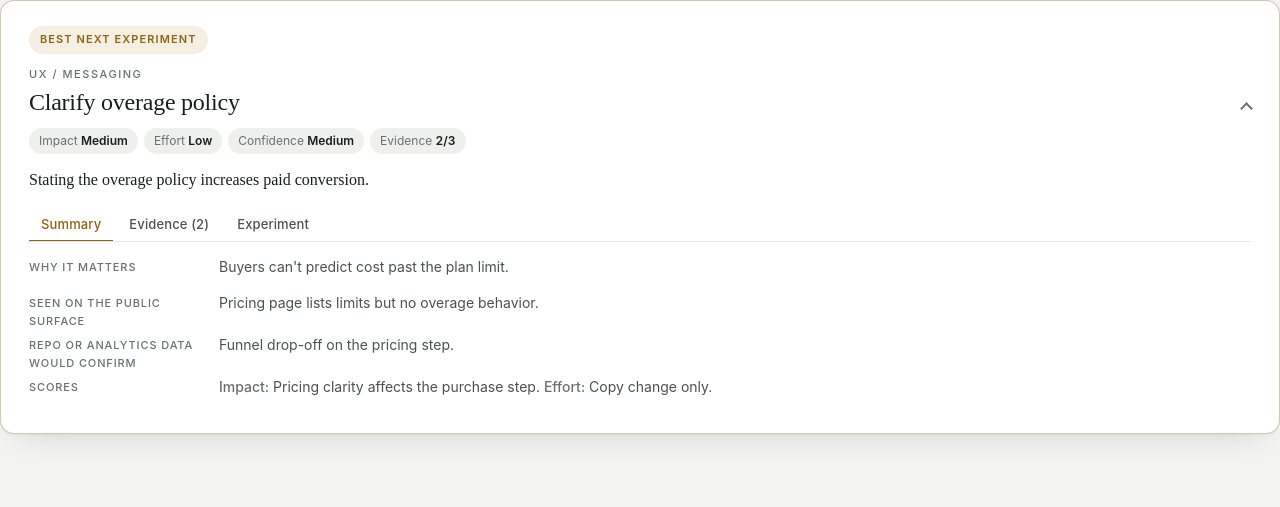
Test case: OpportunityCardView › resolves each cited evidence id to its observation, excerpt and source link
The width and height of the screenshot is (1280, 507).
Click the tab "Evidence (2)": coordinates (169, 225) [117,208,221,242]
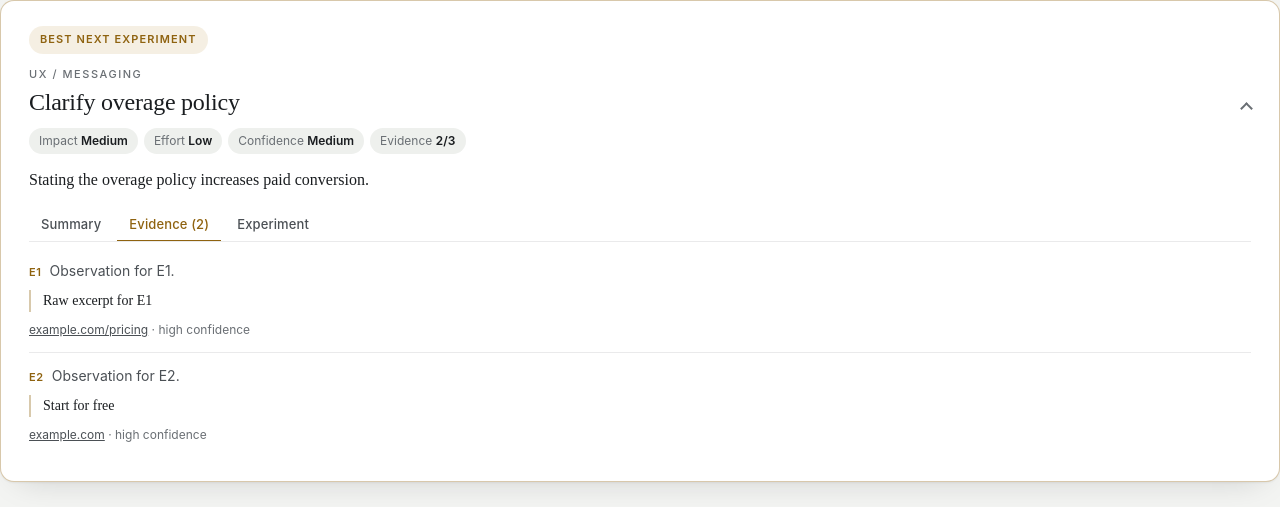
Result: the text "E1" is shown at [29,264,42,281]
Result: the list item "Observation for E1." is shown at [50,262,175,279]
Result: the text "Raw excerpt for E1" is shown at [29,290,1251,312]
